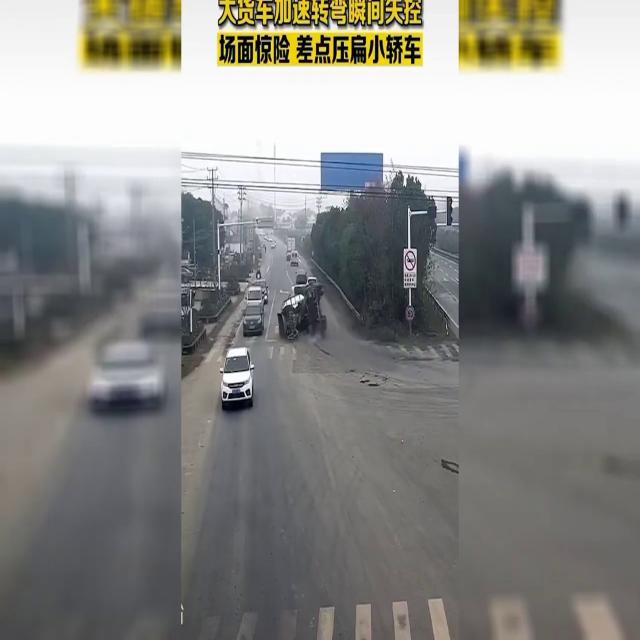multiple_accident: (285, 238, 337, 347)
